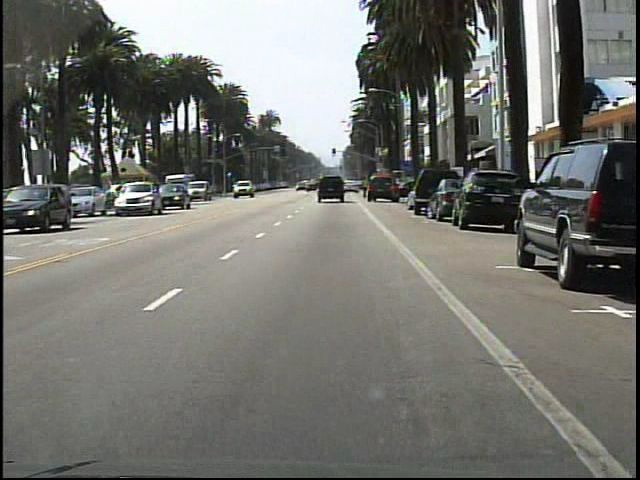person: (358, 175, 369, 201)
